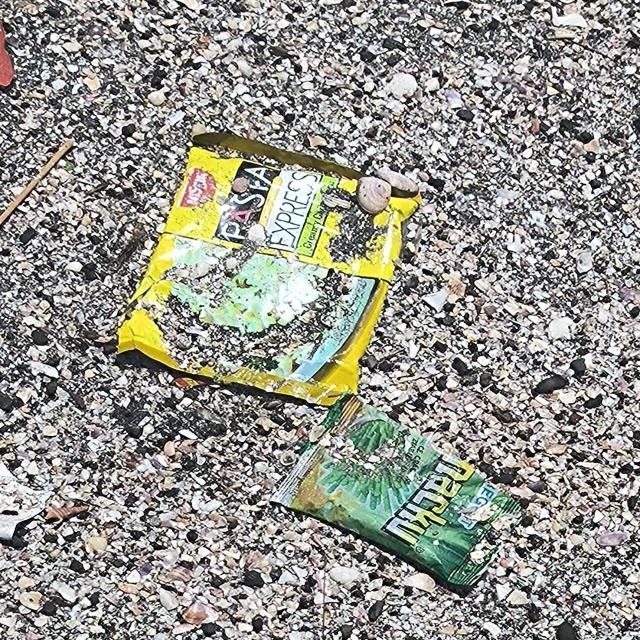plastic_waste: (114, 133, 426, 408), (267, 393, 532, 589)
